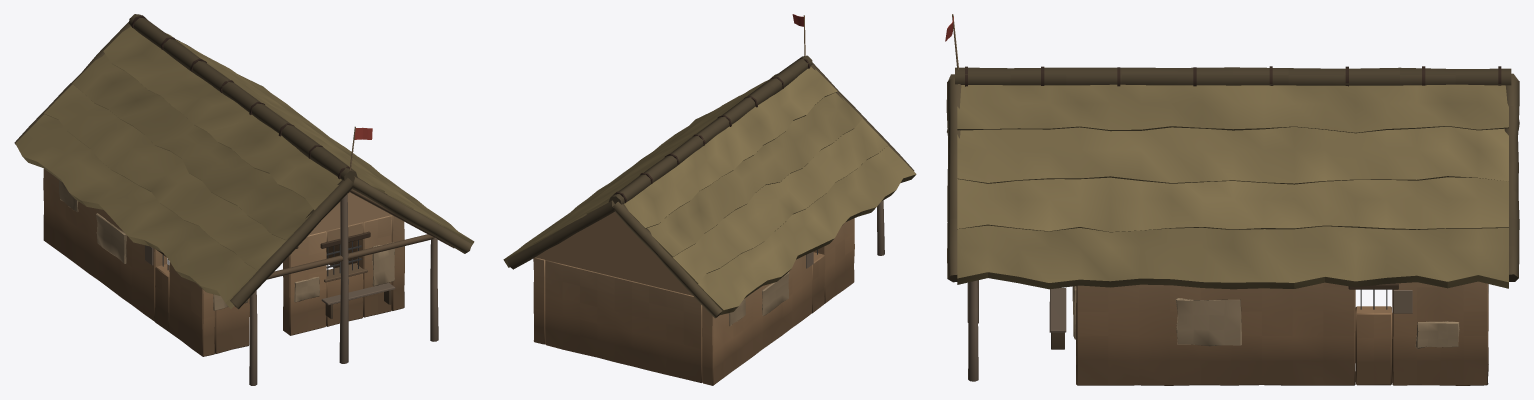
The model's file is pulperia.glb.
3 views of the same model, side by side, from view 1: azimuth 30°, elevation 25°; view 2: azimuth 150°, elevation 25°; view 3: azimuth 270°, elevation 25° (orthographic). The views are drawn at different scales.
Parts seen in each view (by area): view 1: Pulperia; view 2: Pulperia; view 3: Pulperia.
Boxes of the visible parts, left/top/right/bottom form: Pulperia: left=14, top=14, right=474, bottom=385; Pulperia: left=503, top=14, right=916, bottom=385; Pulperia: left=945, top=14, right=1519, bottom=385.
Size of what is drawn, in the model's own units: 8.3 by 7.49 by 12.55.
